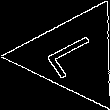L_NE: (39, 29, 107, 82)
